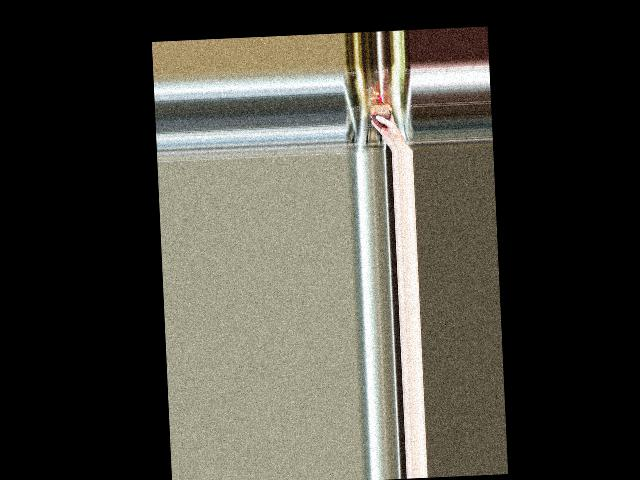beet: (368, 86, 392, 127)
